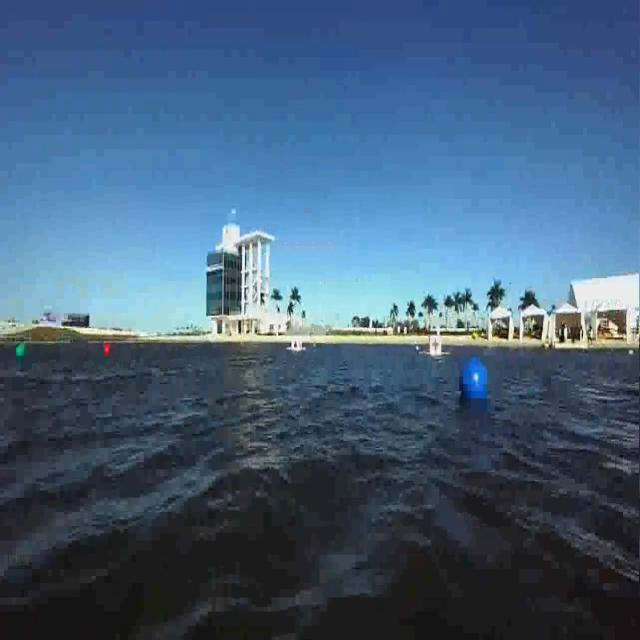blue-buoy: (460, 358, 488, 402)
green-buoy: (14, 343, 26, 360)
